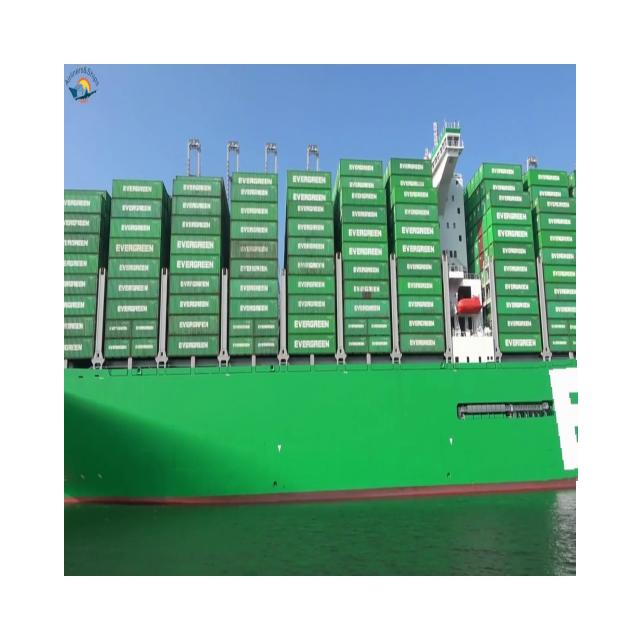OCR: (531, 357, 578, 484)
